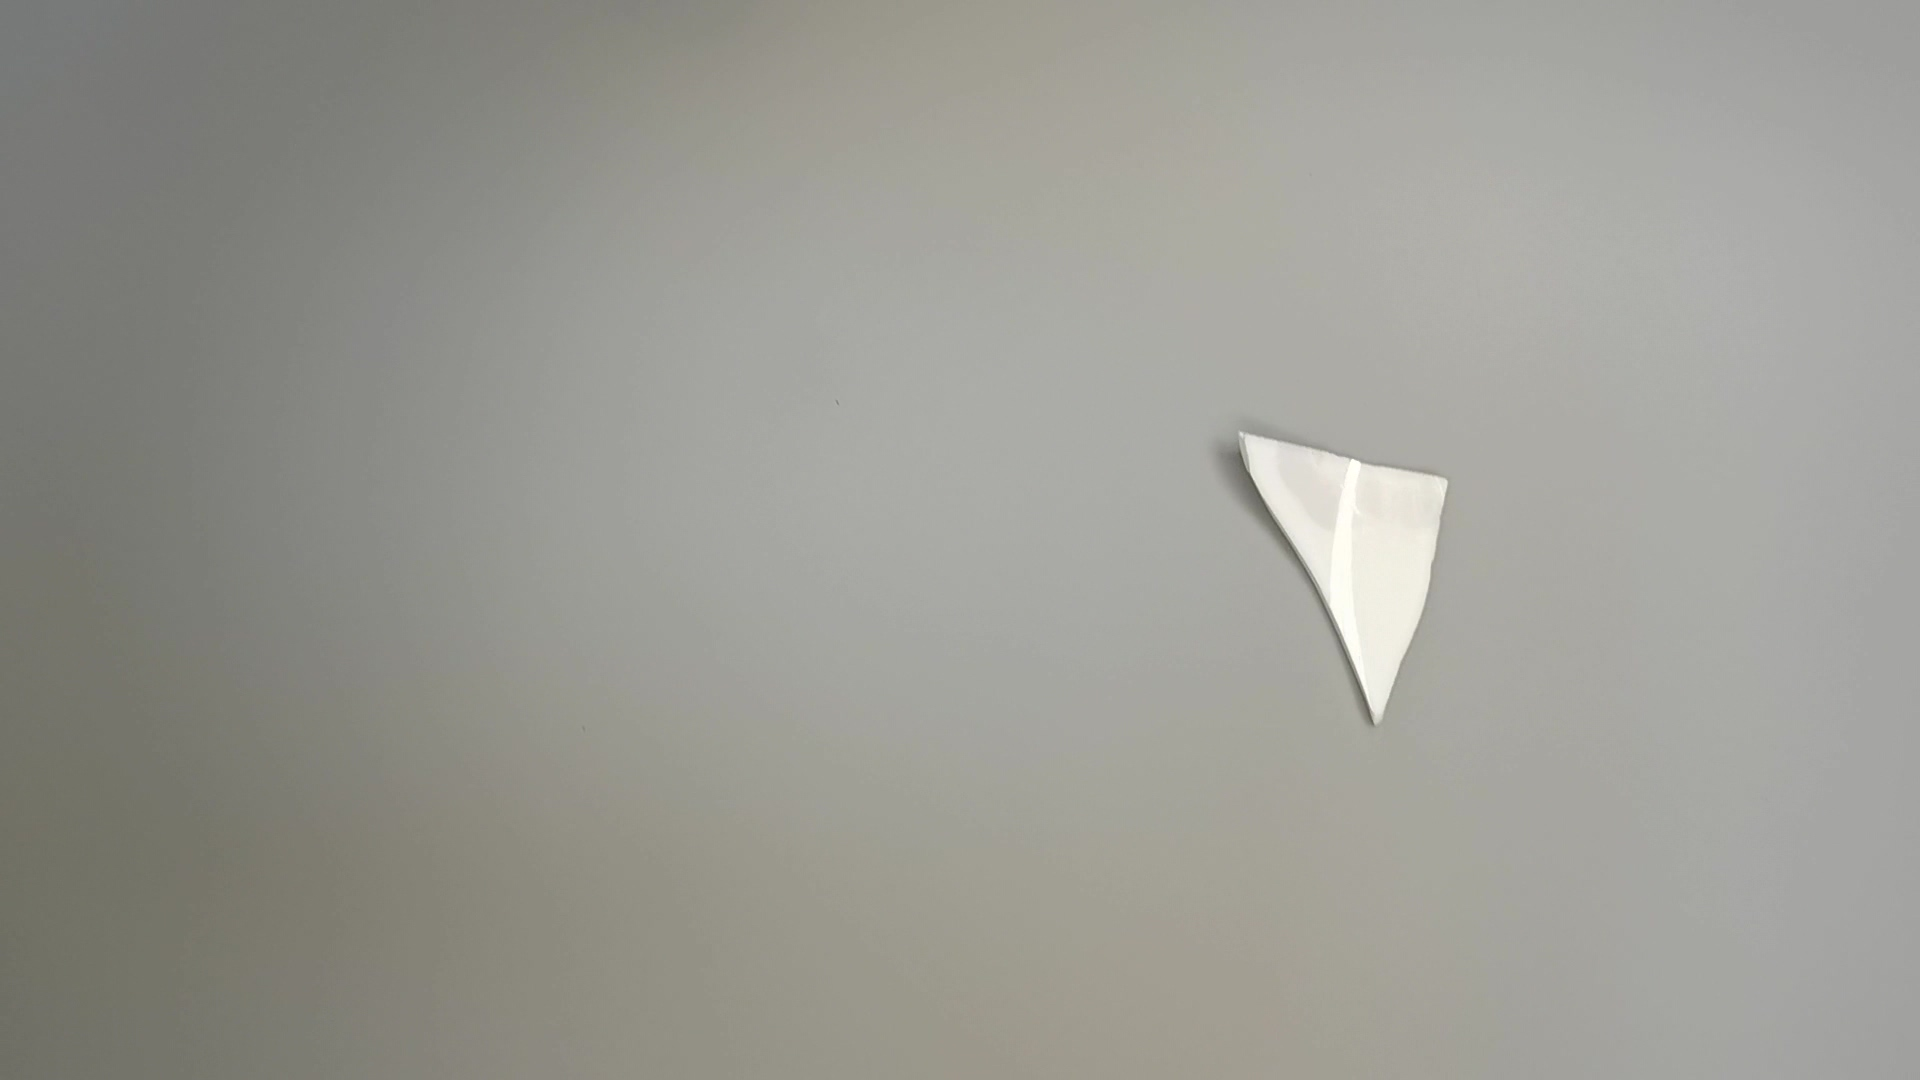ceramic: (1221, 422, 1458, 737)
